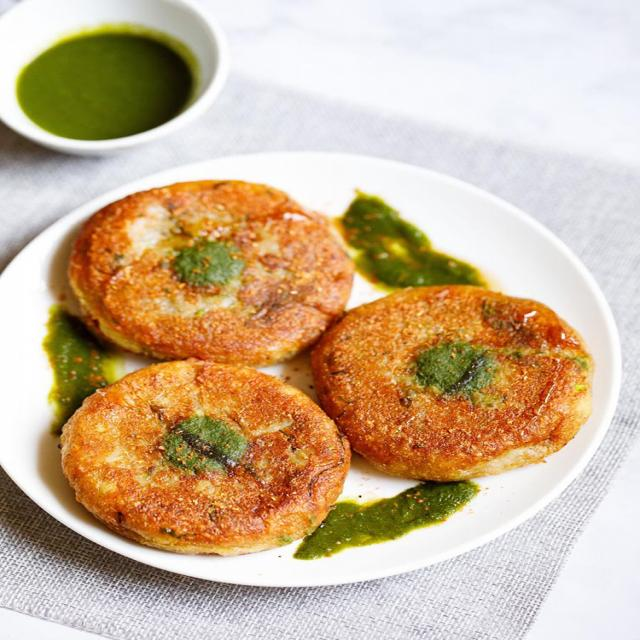Aloo Tikki: (304, 285, 586, 489), (59, 365, 349, 561), (67, 176, 349, 364)
